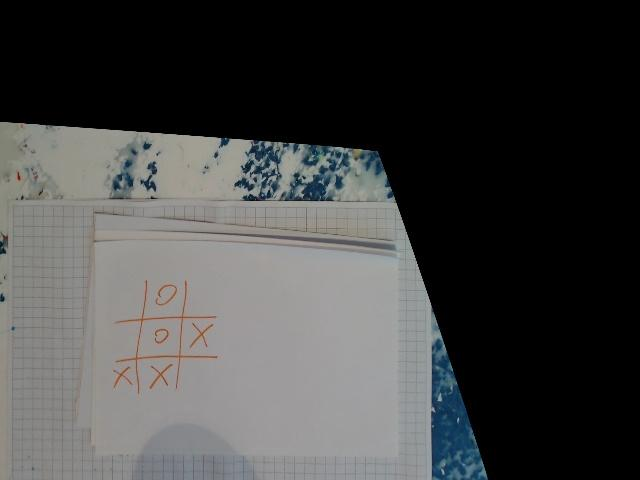O: (154, 282, 180, 312), (150, 324, 173, 346)
X: (186, 322, 218, 352), (145, 361, 175, 391), (108, 364, 134, 390)
grid: (104, 276, 224, 394)
